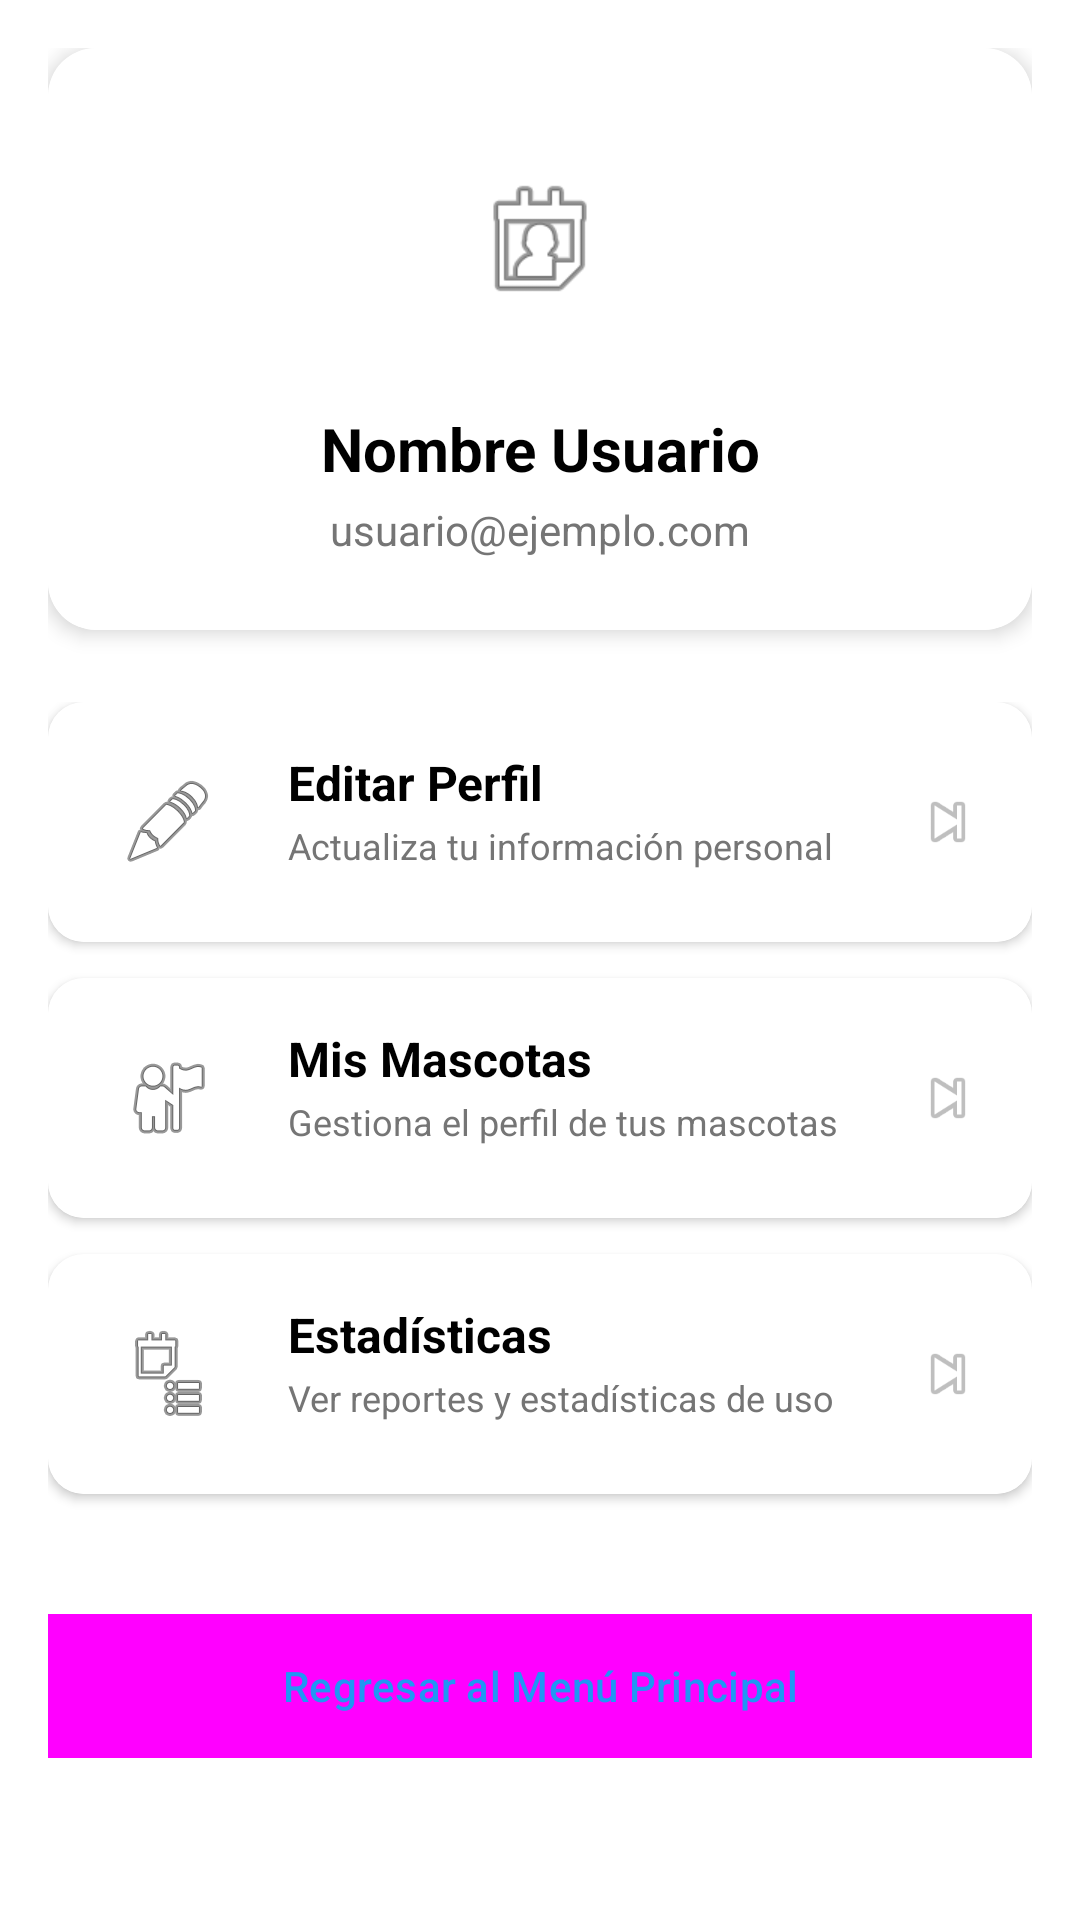

Named icons in this screenshot (1080*1920) and their bounding boxes, (x1, y1, x2, y2):
agenda: (135, 1331, 202, 1416)
calendar: (493, 186, 587, 291)
myplaces: (133, 1062, 205, 1134)
next: (931, 802, 965, 842), (931, 1078, 965, 1118), (931, 1354, 965, 1394)
